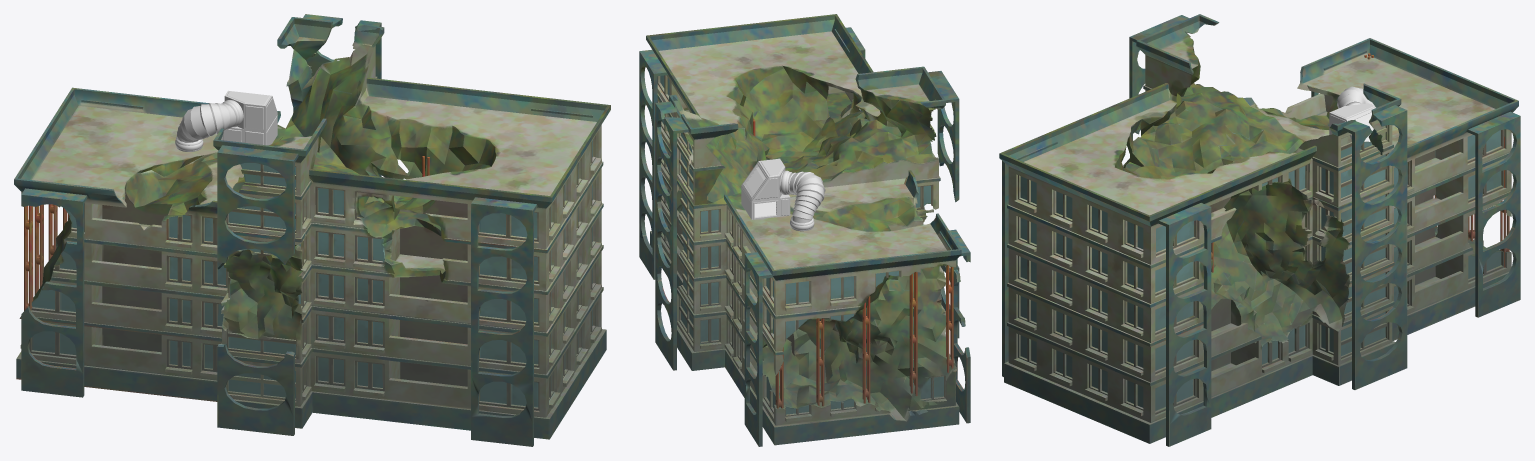
3 renders of one model, left to right at view 1: azimuth 30°, elevation 25°; view 2: azimuth 150°, elevation 25°; view 3: azimuth 270°, elevation 25°, orthographic. The views are drawn at different scales.
Parts seen in each view (by area): view 1: Cube.122, BézierCurve.104; view 2: Cube.122, BézierCurve.104; view 3: Cube.122, BézierCurve.104.
Part boxes in pixels (bbox=[...]): Cube.122: bbox=[14, 14, 610, 446]; BézierCurve.104: bbox=[175, 90, 277, 151]; Cube.122: bbox=[639, 14, 970, 446]; BézierCurve.104: bbox=[741, 158, 825, 231]; Cube.122: bbox=[999, 14, 1520, 446]; BézierCurve.104: bbox=[1329, 86, 1375, 141].
Size of the model in its own units: 14233 by 8005 by 14233.
